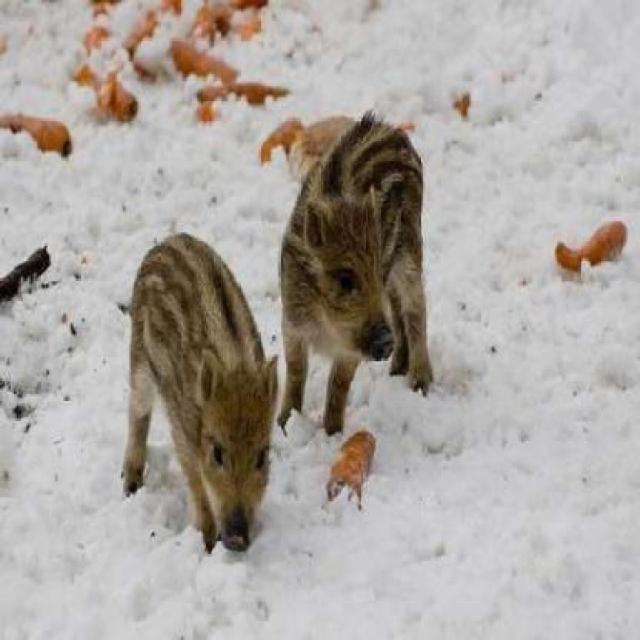pig: (107, 229, 310, 564)
